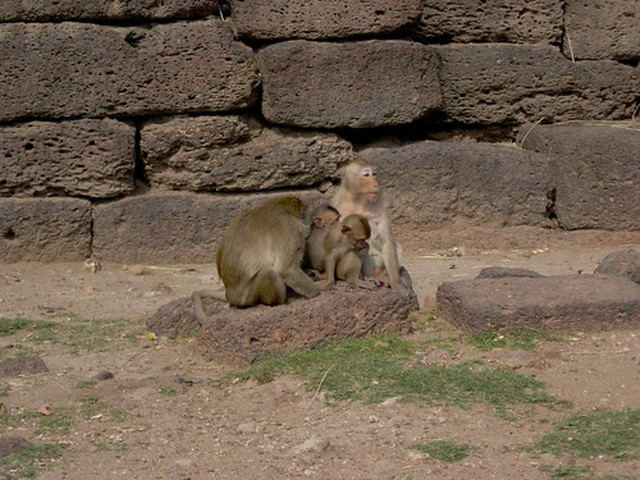Monkey: (216, 160, 407, 305)
